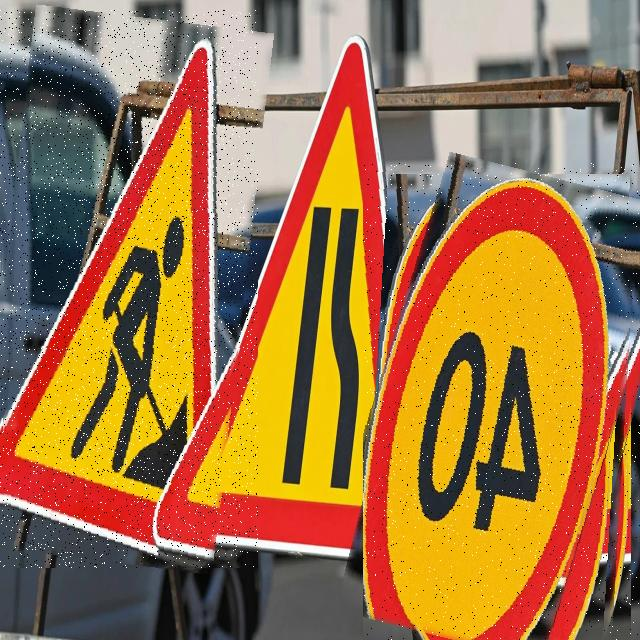roadwork: (0, 10, 258, 568)
speed limit 40: (363, 163, 640, 640)
